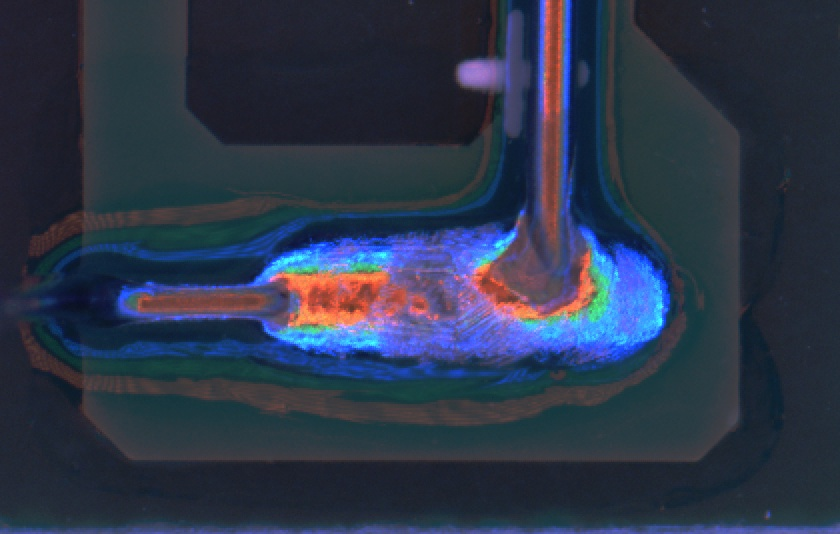spring: (514, 1, 588, 290), (2, 275, 292, 331)
spring_pin: (246, 215, 669, 369)
